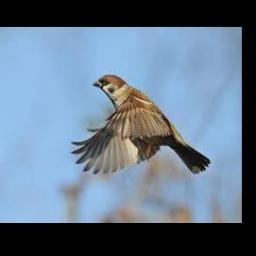Sparrow: (71, 74, 210, 176)
